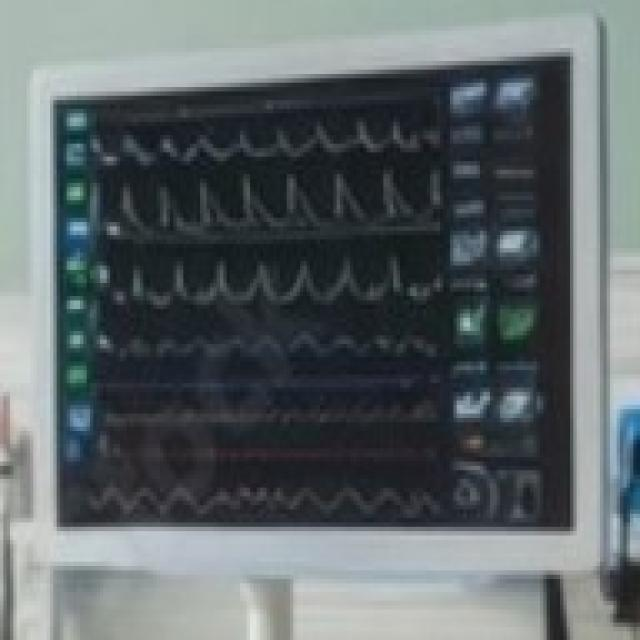Monitor: (26, 13, 604, 579)
